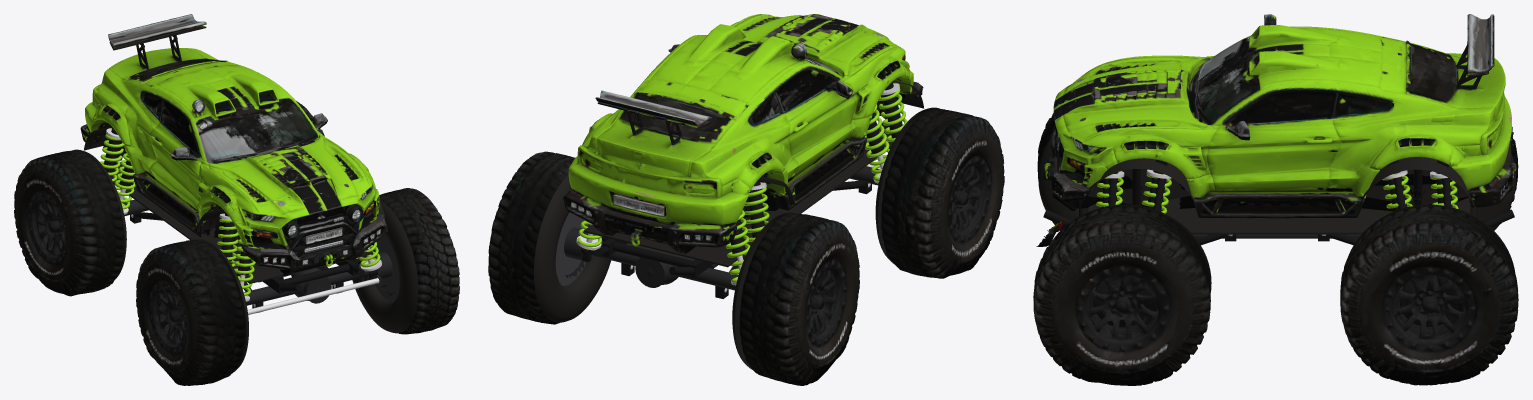
Rendered from monster_truck_lime_black.glb.
3 renders of one model, left to right at view 1: azimuth 30°, elevation 25°; view 2: azimuth 150°, elevation 25°; view 3: azimuth 270°, elevation 25°, orthographic. The views are drawn at different scales.
Parts seen in each view (by area): view 1: Body, Wheel_FL, Wheel_RL, Wheel_FR, Chassis, Axle_F, Shock_RL_1_Spring, Shock_RL_2_Spring, Shock_FL_1_Spring, Shock_RL_2_Body, Shock_FL_2_Spring, Shock_FL_2_Body; view 2: Body, Wheel_FL, Wheel_RL, Wheel_RR, Chassis, Axle_R, Shock_FL_2_Spring, Shock_FL_1_Spring, Shock_RL_2_Spring, Shock_RL_1_Spring, Shock_FL_1_Body, Shock_RL_1_Body; view 3: Body, Wheel_FR, Wheel_RR, Chassis, Wheel_FL, Wheel_RL, Shock_FR_2_Body, Shock_RR_1_Body, Shock_RR_2_Body, Shock_FR_1_Body, Shock_FR_2_Spring.
Part boxes in pixels (box(x1,y1,x2,y2)): Body: box(80, 14, 387, 276); Wheel_FL: box(136, 239, 248, 385); Wheel_RL: box(14, 149, 126, 296); Wheel_FR: box(352, 188, 459, 334); Chassis: box(110, 126, 372, 293); Axle_F: box(243, 251, 392, 314); Shock_RL_1_Spring: box(114, 149, 135, 209); Shock_RL_2_Spring: box(100, 134, 124, 185); Shock_FL_1_Spring: box(234, 239, 255, 296); Shock_RL_2_Body: box(104, 128, 124, 176); Shock_FL_2_Spring: box(217, 218, 238, 266); Shock_FL_2_Body: box(219, 212, 239, 261); Body: box(563, 14, 923, 253); Wheel_FL: box(875, 107, 1004, 278); Wheel_RL: box(732, 212, 859, 385); Wheel_RR: box(488, 151, 611, 324); Chassis: box(583, 80, 893, 277); Axle_R: box(564, 227, 738, 298); Shock_FL_2_Spring: box(865, 105, 889, 181); Shock_FL_1_Spring: box(878, 88, 907, 149); Shock_RL_2_Spring: box(725, 210, 750, 282); Shock_RL_1_Spring: box(744, 187, 769, 241); Shock_FL_1_Body: box(879, 82, 902, 138); Shock_RL_1_Body: box(745, 180, 766, 237); Body: box(1044, 14, 1516, 218); Wheel_FR: box(1033, 204, 1211, 385); Wheel_RR: box(1340, 204, 1518, 385); Chassis: box(1043, 159, 1514, 241); Wheel_FL: box(1037, 113, 1090, 230); Wheel_RL: box(1477, 135, 1518, 230); Shock_FR_2_Body: box(1146, 169, 1171, 211); Shock_RR_1_Body: box(1384, 170, 1407, 211); Shock_RR_2_Body: box(1430, 171, 1452, 207); Shock_FR_1_Body: box(1102, 171, 1124, 207); Shock_FR_2_Spring: box(1142, 174, 1171, 213).
Size of the model in its own units: 4 by 3.12 by 5.05.
Materials: 8 (1 with a texture image).
